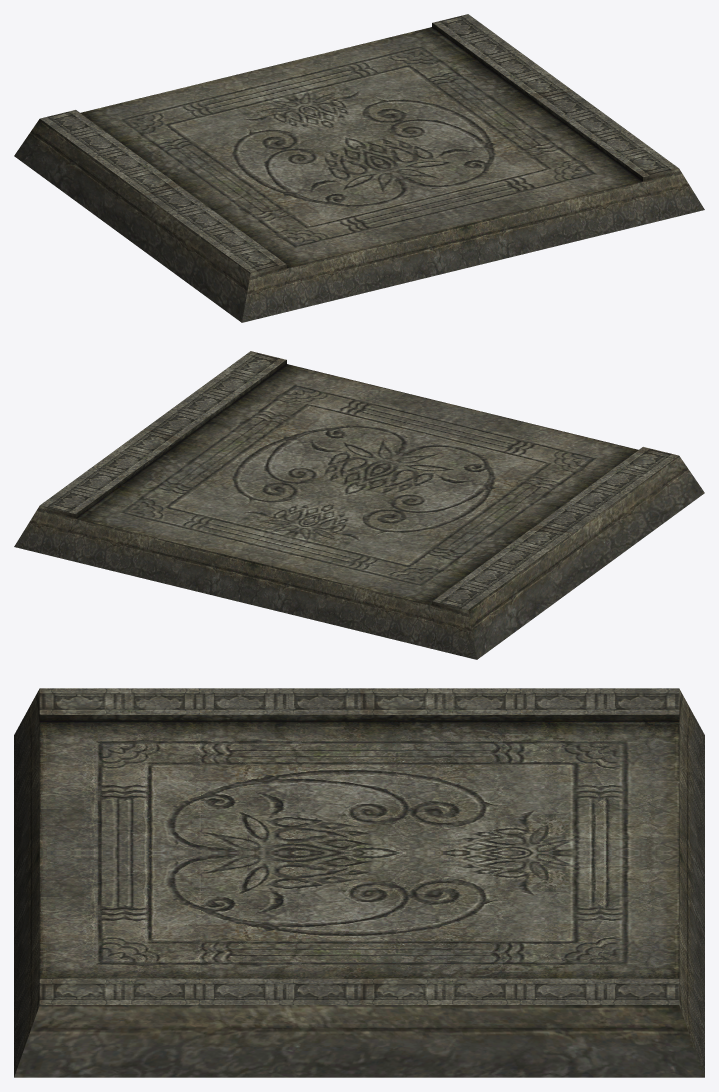
The model's file is dawnmist_floor01.fbx.
The picture shows the model from 3 angles, top to bottom: view 1: azimuth 30°, elevation 25°; view 2: azimuth 150°, elevation 25°; view 3: azimuth 270°, elevation 25°; orthographic projection. The views are drawn at different scales.
Visible parts, largest first — view 1: DawnMist_floor01; view 2: DawnMist_floor01; view 3: DawnMist_floor01.
Part boxes in pixels (box(x1,y1,x2,y2)): DawnMist_floor01: box(14, 14, 704, 322); DawnMist_floor01: box(14, 351, 704, 659); DawnMist_floor01: box(14, 688, 704, 1077).
Size of the model in its own units: 11.68 by 0.9517 by 9.96.
